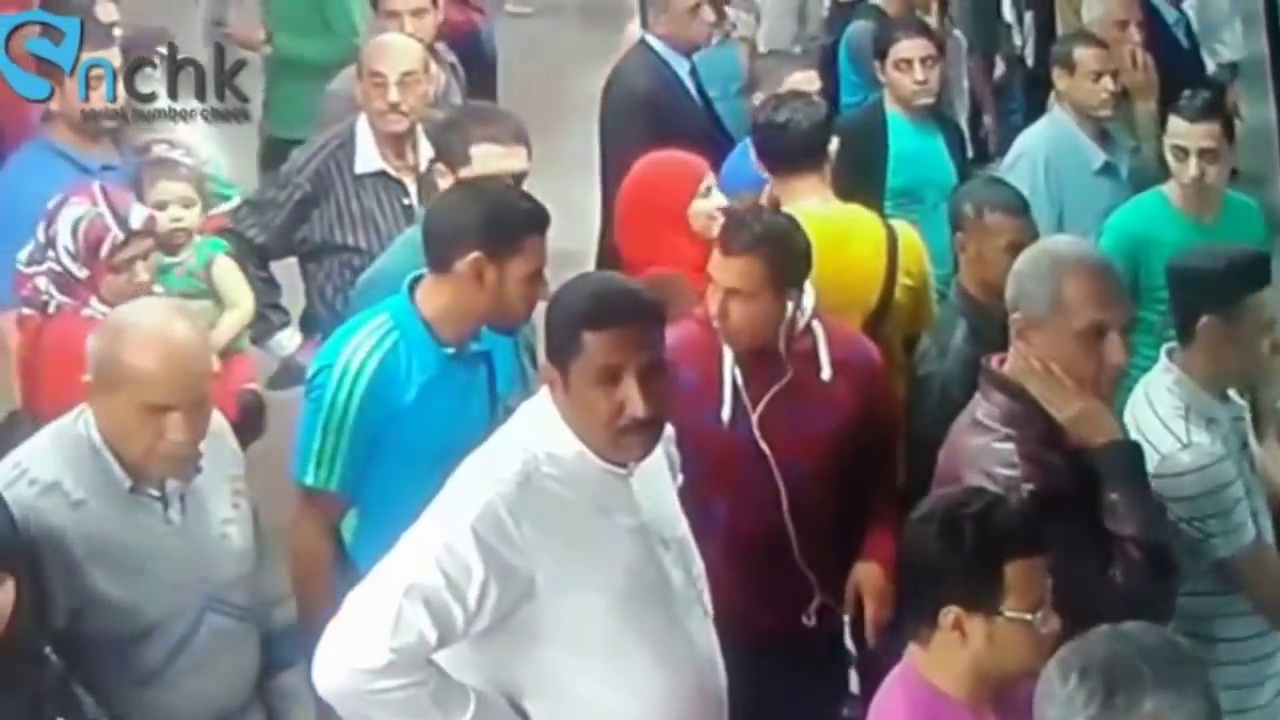face: (564, 324, 670, 473), (113, 373, 212, 477), (1052, 289, 1131, 400), (704, 251, 784, 358), (991, 561, 1060, 683), (1230, 299, 1280, 402), (356, 56, 419, 132), (878, 39, 947, 104), (1167, 121, 1223, 201), (1071, 58, 1125, 117), (149, 180, 199, 243), (681, 174, 727, 230), (107, 241, 149, 299), (379, 2, 440, 39), (672, 2, 719, 48)
